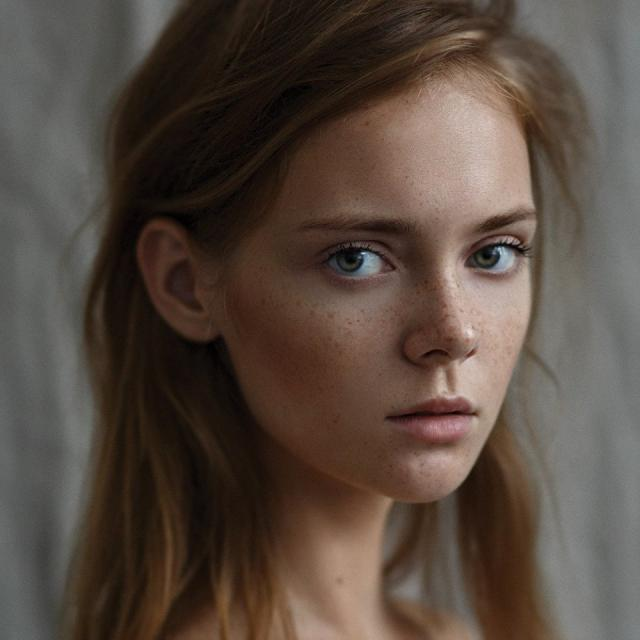earlobe: (135, 217, 219, 344)
